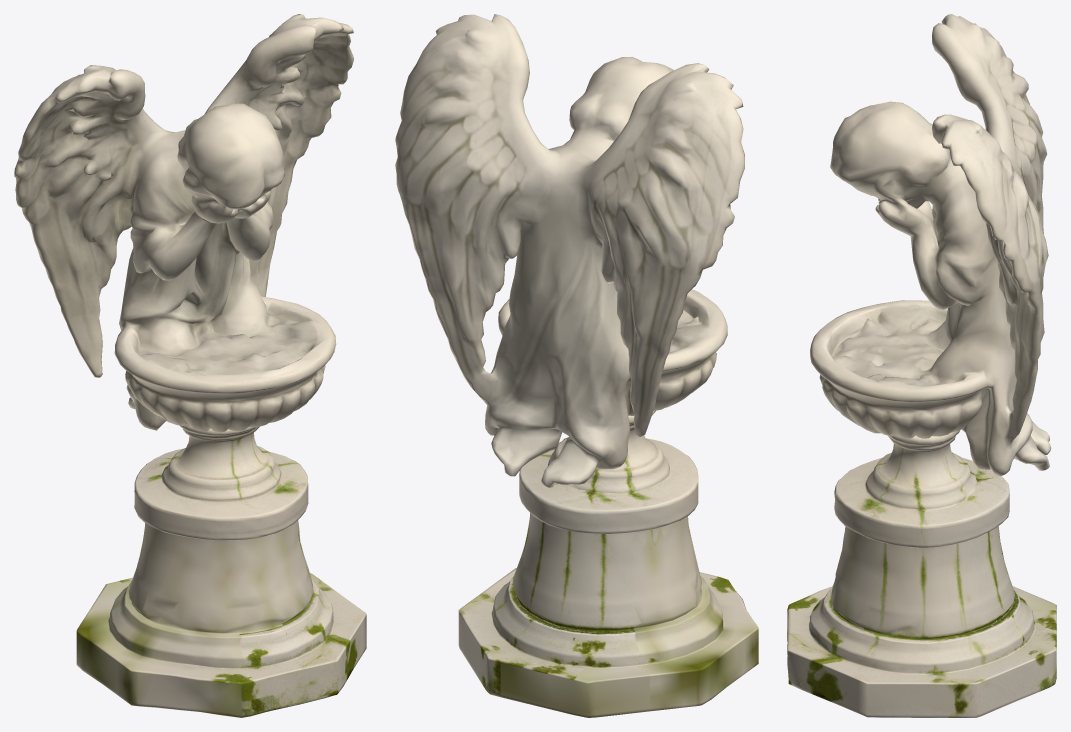
Rendered from maze_center_statue.glb.
3 renders of one model, left to right at view 1: azimuth 30°, elevation 25°; view 2: azimuth 150°, elevation 25°; view 3: azimuth 270°, elevation 25°, orthographic. The views are drawn at different scales.
Size of the model in its own units: 1.08 by 1.91 by 0.7867.
1 material, 1 textured.
